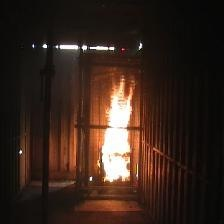fire: (100, 70, 136, 186)
